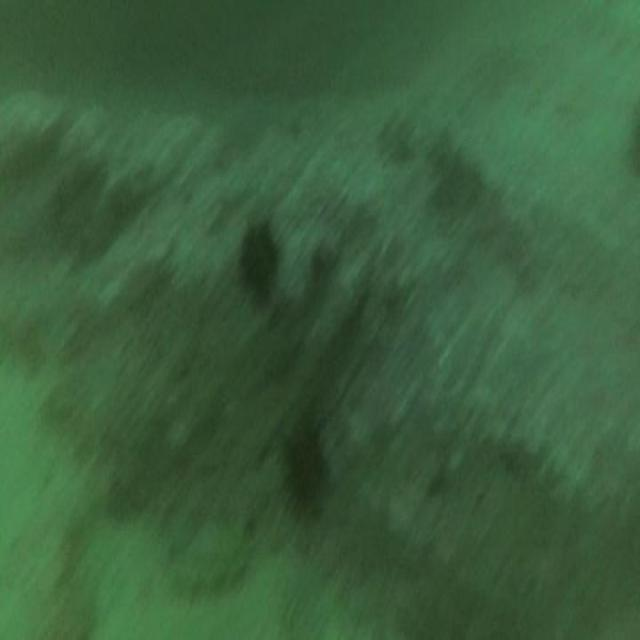echinus: (286, 427, 326, 515), (241, 229, 276, 305)
holothurian: (170, 542, 244, 599)
